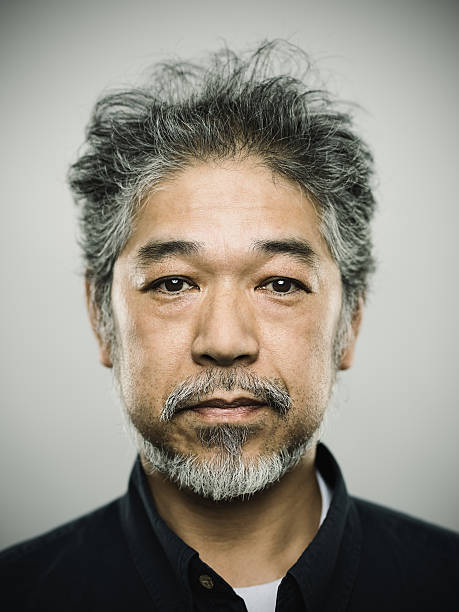person: (81, 74, 369, 511)
